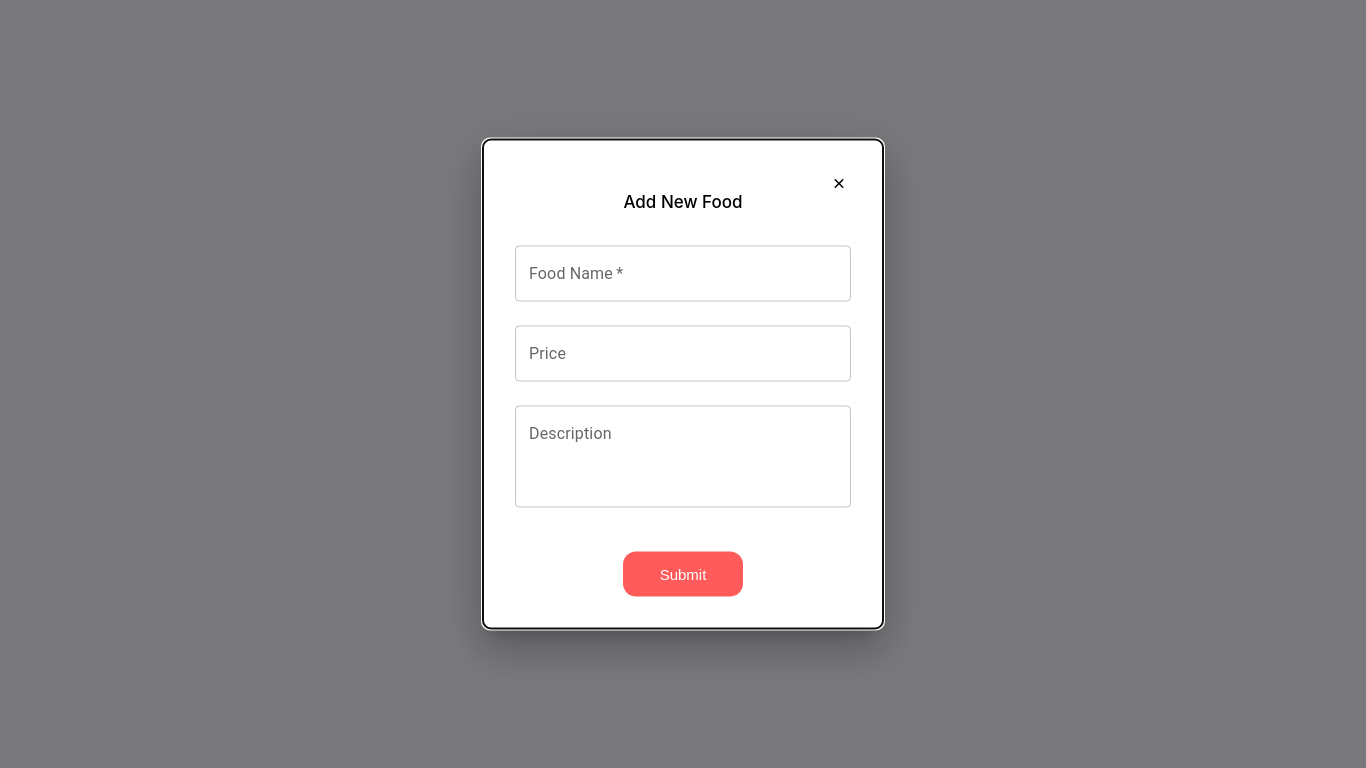
Test case: AddNewFood Component › Hiển thị lỗi validate khi các trường bắt buộc không được điền
# Nhấn nút submit mà không điền dữ liệu (lưu ý: Button của component được render dưới dạng nút)
Click the button "Submit". click: coordinates (683, 574)
box: [623,552,743,596]
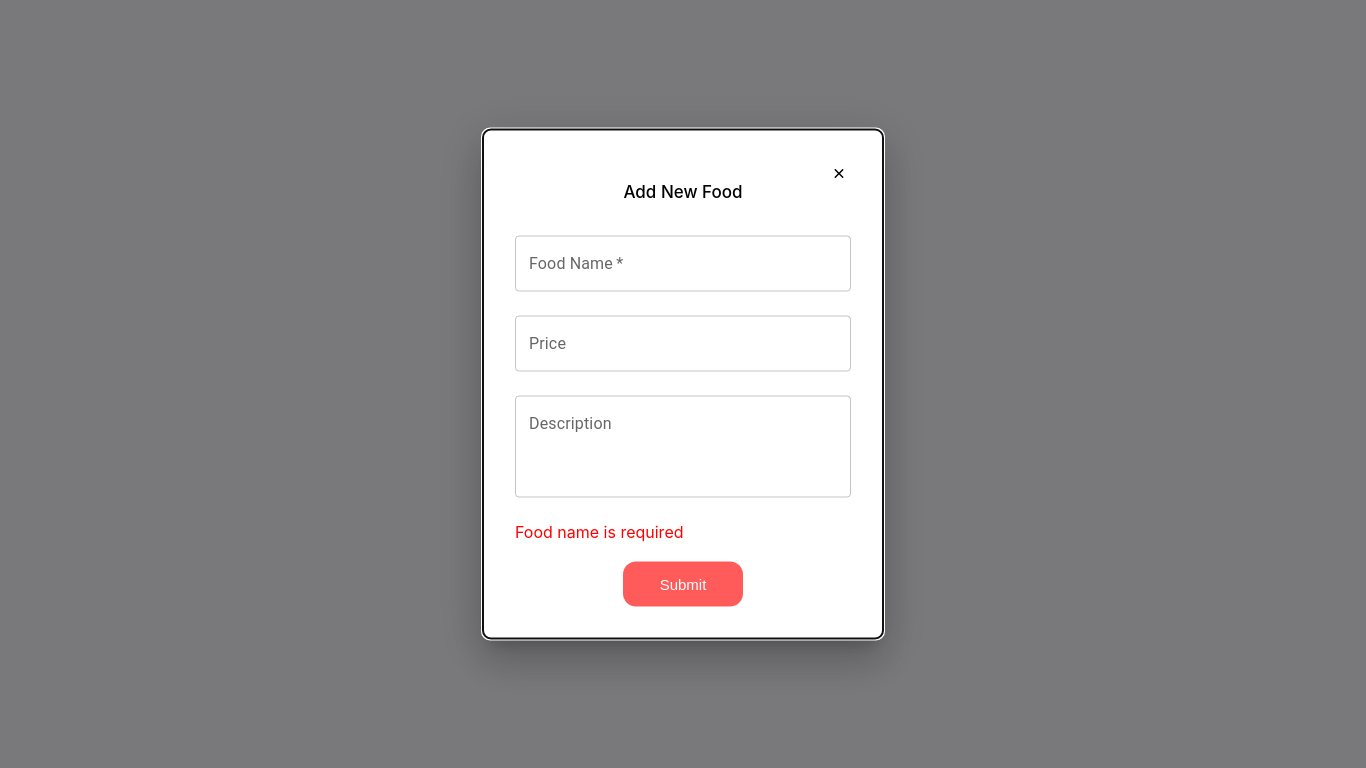
Result: the text "Food name is required" is shown at [515,522,684,542]
